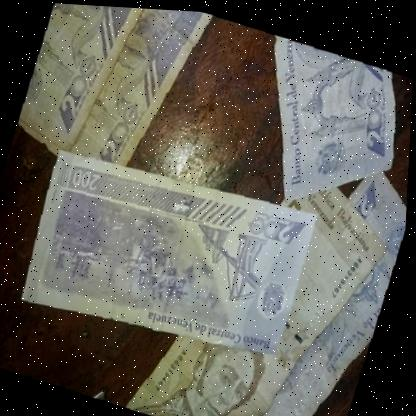five-front-vef: (124, 135, 404, 416)
ten-back-vef: (209, 137, 411, 416), (6, 1, 214, 185), (234, 21, 416, 222), (5, 1, 143, 159)
two_hundred-back-vef: (16, 142, 322, 367)
